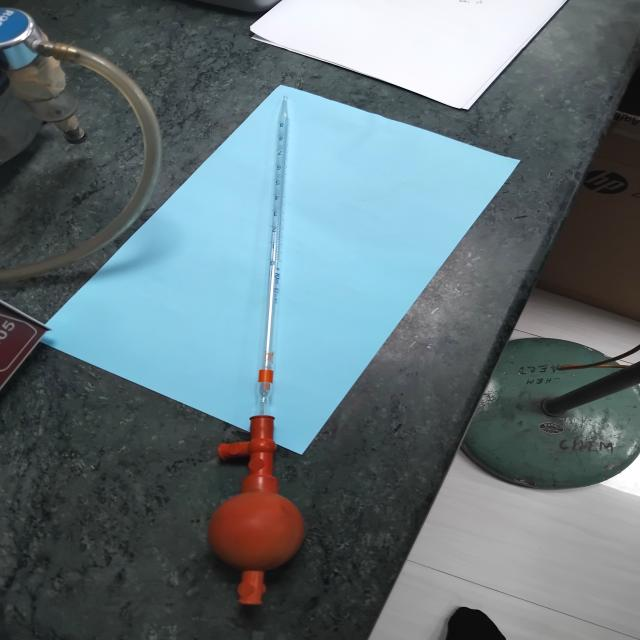Volumetric_Pipet: (208, 77, 348, 614)
